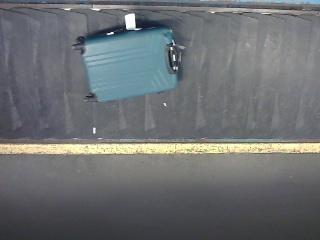Suitcase: (76, 18, 187, 114)
